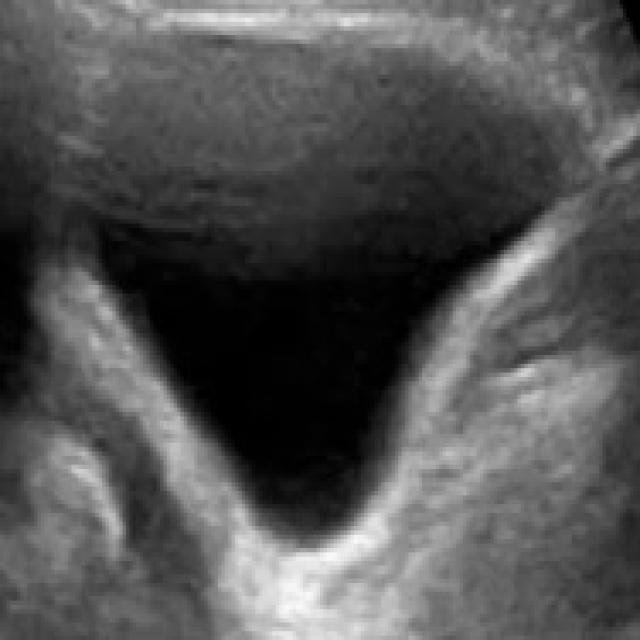bladder: (30, 27, 620, 595)
